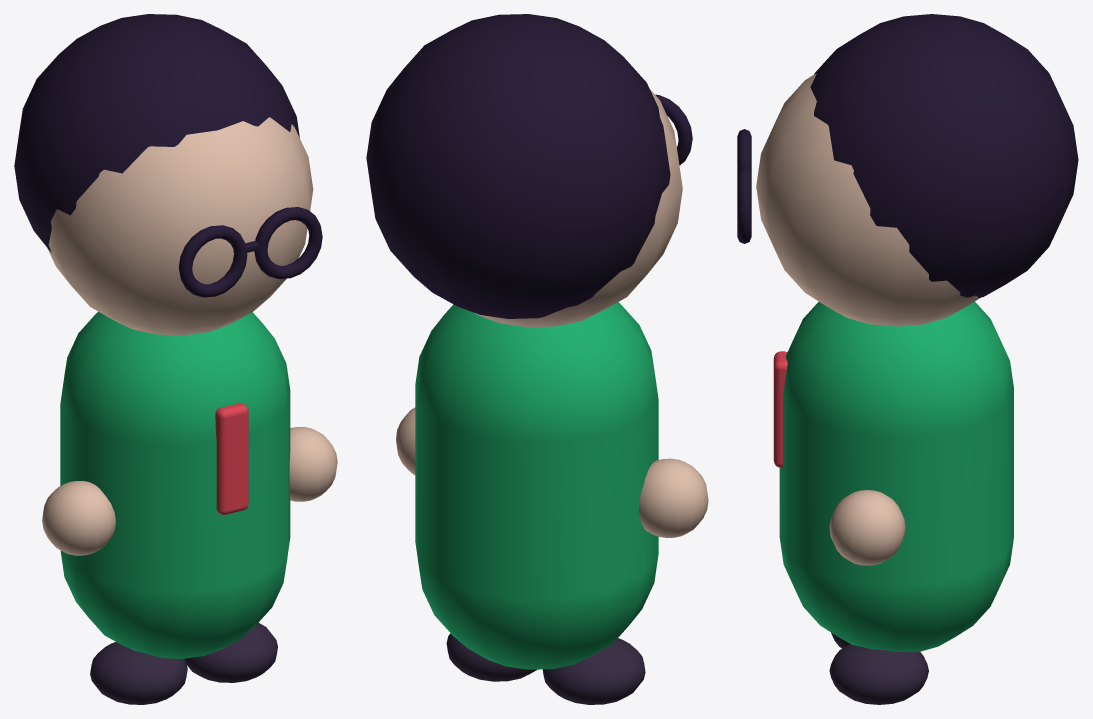
Rendered from human-glasses.glb.
The picture shows the model from 3 angles, left to right: view 1: azimuth 30°, elevation 25°; view 2: azimuth 150°, elevation 25°; view 3: azimuth 270°, elevation 25°; orthographic projection. The views are drawn at different scales.
Parts seen in each view (by area): view 1: humanGlasses; view 2: humanGlasses; view 3: humanGlasses.
Part boxes in pixels (x1=…): humanGlasses: x1=14, y1=14, x2=337, y2=704; humanGlasses: x1=366, y1=14, x2=708, y2=704; humanGlasses: x1=737, y1=14, x2=1078, y2=704.
Size of the model in its own units: 0.57 by 1.22 by 0.5819.
